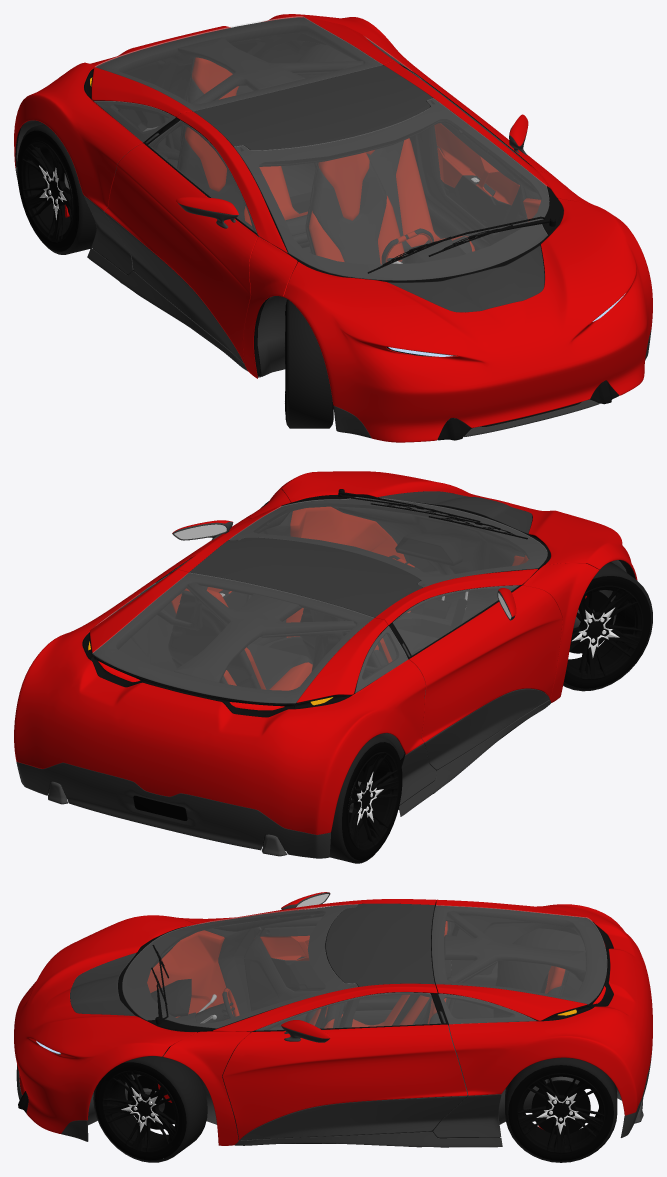
Rendered from classic-car.glb.
The picture shows the model from 3 angles, top to bottom: view 1: azimuth 30°, elevation 25°; view 2: azimuth 150°, elevation 25°; view 3: azimuth 270°, elevation 25°; orthographic projection. The views are drawn at different scales.
Parts seen in each view (by area): view 1: BodyHood, BodyWindshield, BodyRearwindow, BodyDoorRColor1, BodyRearPanelsColor1, BodyRoofPanel, BodyWindshieldGasket, InteriorSeatsColor1, InteriorSeatsColor2, BodyPillars, InteriorPillar, InteriorRearHatch (+21 smaller); view 2: BodyRearPanelsColor1, BodyRearwindow, BodyWindshield, BodyDoorRColor1, BodyPanelsColor2, BodyRoofPanel, BodyHood, InteriorRearHatch, BodyPillars, InteriorPillar, BodyWindshieldGasket, InteriorDashMid (+22 smaller); view 3: BodyRearPanelsColor1, BodyWindshield, BodyDoorLColor1, BodyHood, BodyRearwindow, BodyRoofPanel, BodyPillars, BodyWindshieldGasket, BodyDoorLColor2, BodyPanelsColor2, WheelFrontL, InteriorRearHatch (+25 smaller).
Boxes of the visible parts, x1,y1,x2,y2 form: BodyHood: (283,198,652,442); BodyWindshield: (234,98,549,280); BodyRearwindow: (95,16,382,110); BodyDoorRColor1: (104,143,257,362); BodyRearPanelsColor1: (14,14,428,210); BodyRoofPanel: (193,65,432,150); BodyWindshieldGasket: (234,99,563,282); InteriorSeatsColor1: (185,57,475,264); InteriorSeatsColor2: (180,78,472,264); BodyPillars: (176,61,598,378); InteriorPillar: (158,37,434,168); InteriorRearHatch: (93,17,383,117); BodyRearPanelsColor1: (14,569,425,834); BodyRearwindow: (92,573,373,703); BodyWindshield: (229,497,547,587); BodyDoorRColor1: (409,585,562,742); BodyPanelsColor2: (16,700,550,858); BodyRoofPanel: (189,537,422,617); BodyHood: (279,471,637,579); InteriorRearHatch: (93,573,386,707); BodyPillars: (175,489,599,702); InteriorPillar: (174,574,417,682); BodyWindshieldGasket: (230,497,550,587); InteriorDashMid: (331,502,528,622); BodyRearPanelsColor1: (436,899,652,1115); BodyWindshield: (122,904,357,1028); BodyDoorLColor1: (222,1024,467,1139); BodyHood: (14,915,196,1133); BodyRearwindow: (432,905,606,1003); BodyRoofPanel: (326,903,434,986); BodyPillars: (163,899,437,1145); BodyWindshieldGasket: (118,905,357,1032); BodyDoorLColor2: (240,1096,467,1140); BodyPanelsColor2: (16,1050,652,1147); WheelFrontL: (93,1054,207,1162); InteriorRearHatch: (431,905,606,1020).
Bounding box in the file's own units: 2.54 × 1.15 × 4.36.
